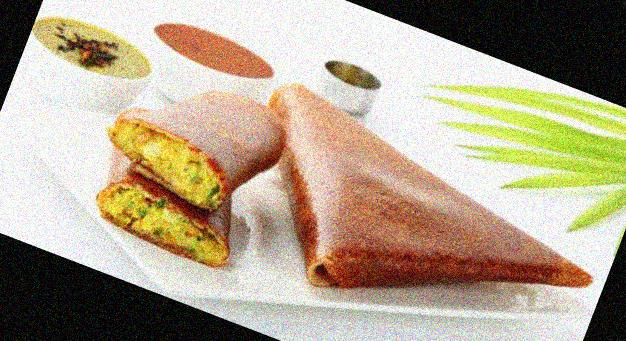dosa: (264, 83, 594, 300)
